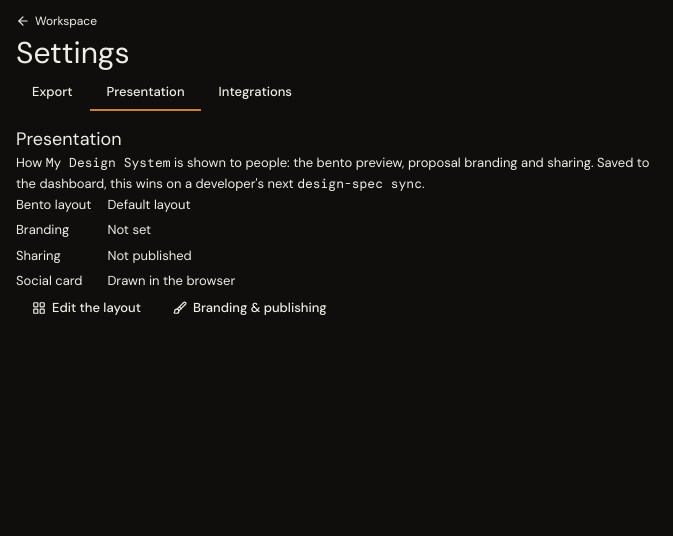
SettingsView tabs › reads the tab from the URL and writes it back on click
The image size is (673, 536).
Check: the element with test id "presentation-settings" is shown, box [16,126,656,325]
Click the tab with test id "settings-tab-export": (52,93) [16,75,88,111]
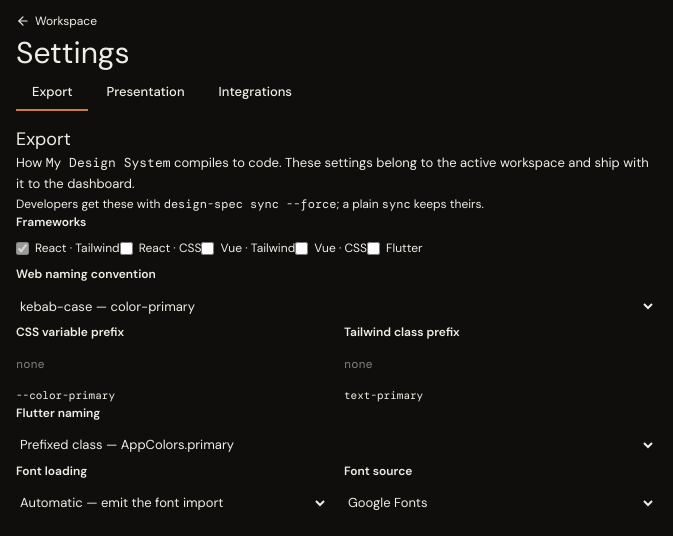
Check: the element with test id "export-settings" is shown
Check: the element with test id "export-sync-note" shows "design-spec sync --force", box [164,196,336,212]
